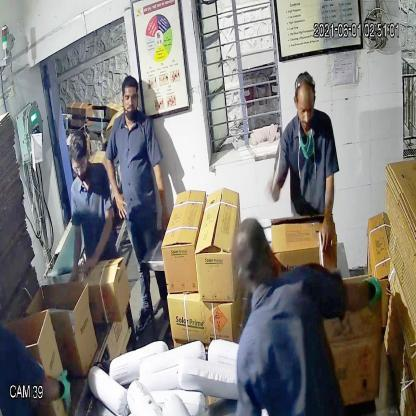goggles: (68, 154, 90, 178)
no_goggles: (294, 100, 318, 121), (119, 89, 140, 110)
